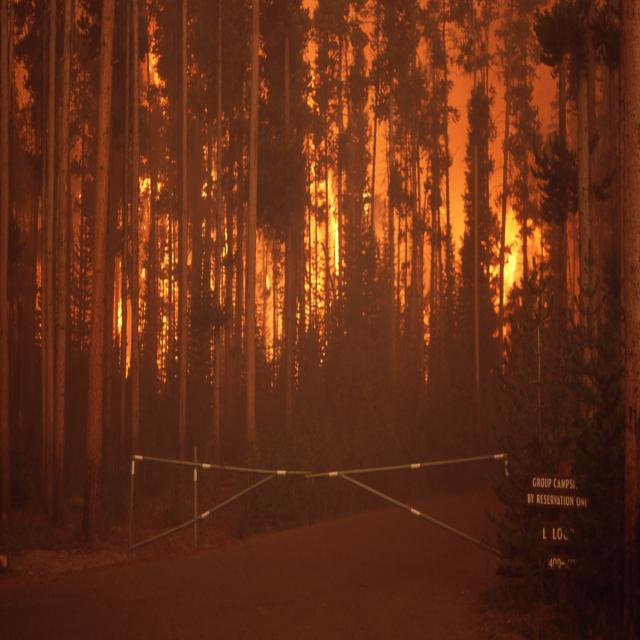Fire: (91, 14, 546, 398)
